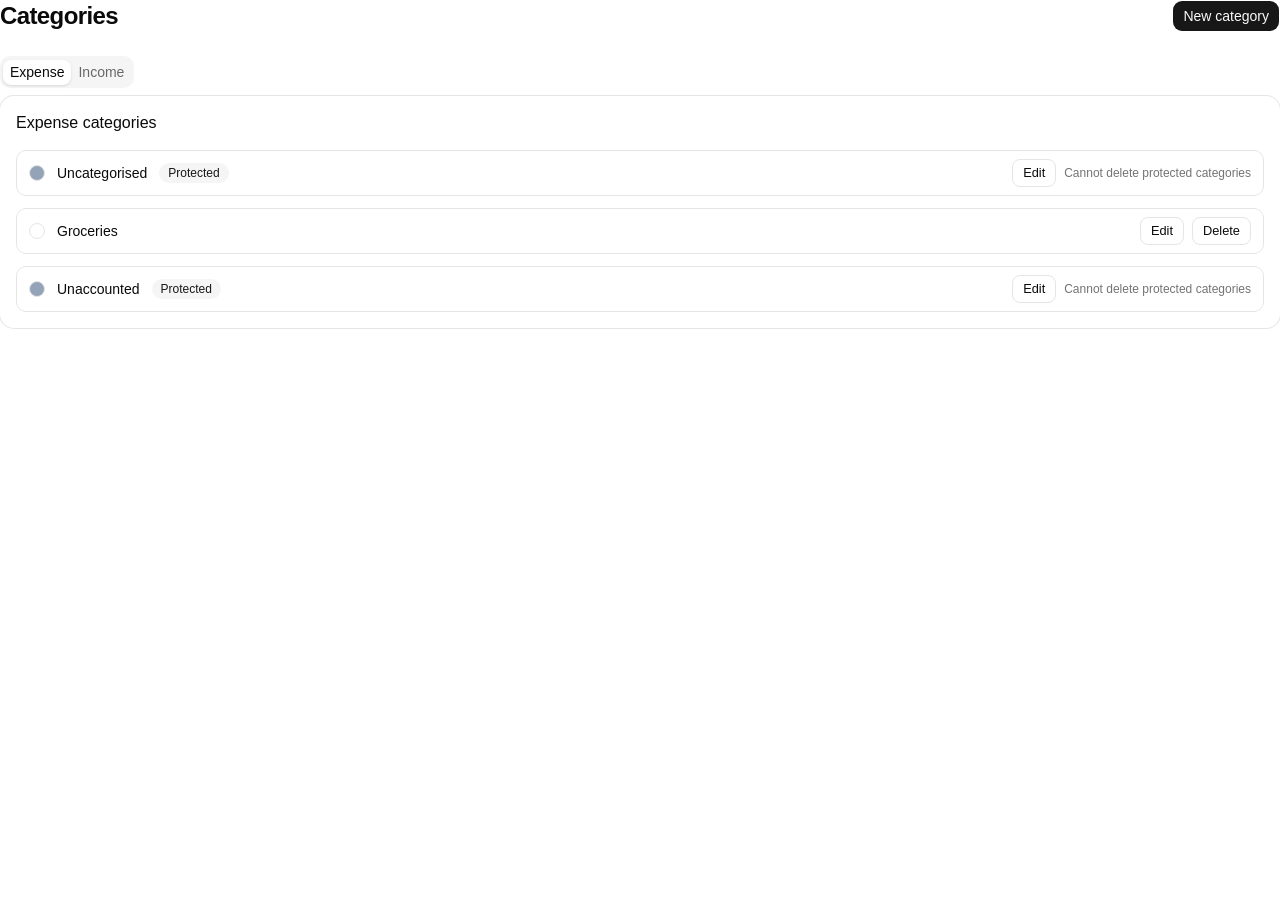
Test: CategoriesPage › creates, renames, and recolours a category
This screenshot has width=1280, height=900.
Click the button "New category": [1226, 16] box x1=1172 y1=0 x2=1279 y2=32
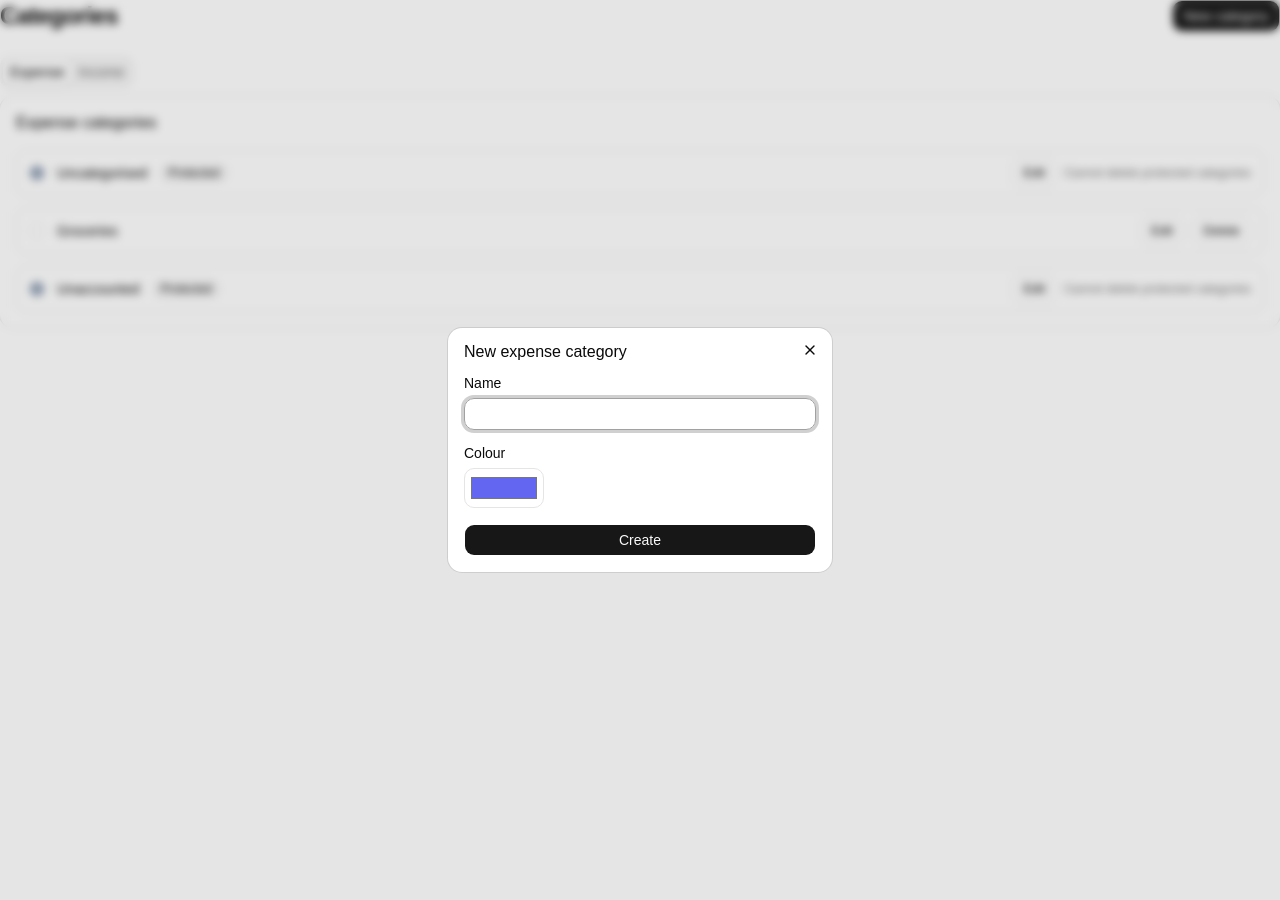
In the field labelled "Name": [640, 414] box x1=464 y1=398 x2=816 y2=430, type "Pets"
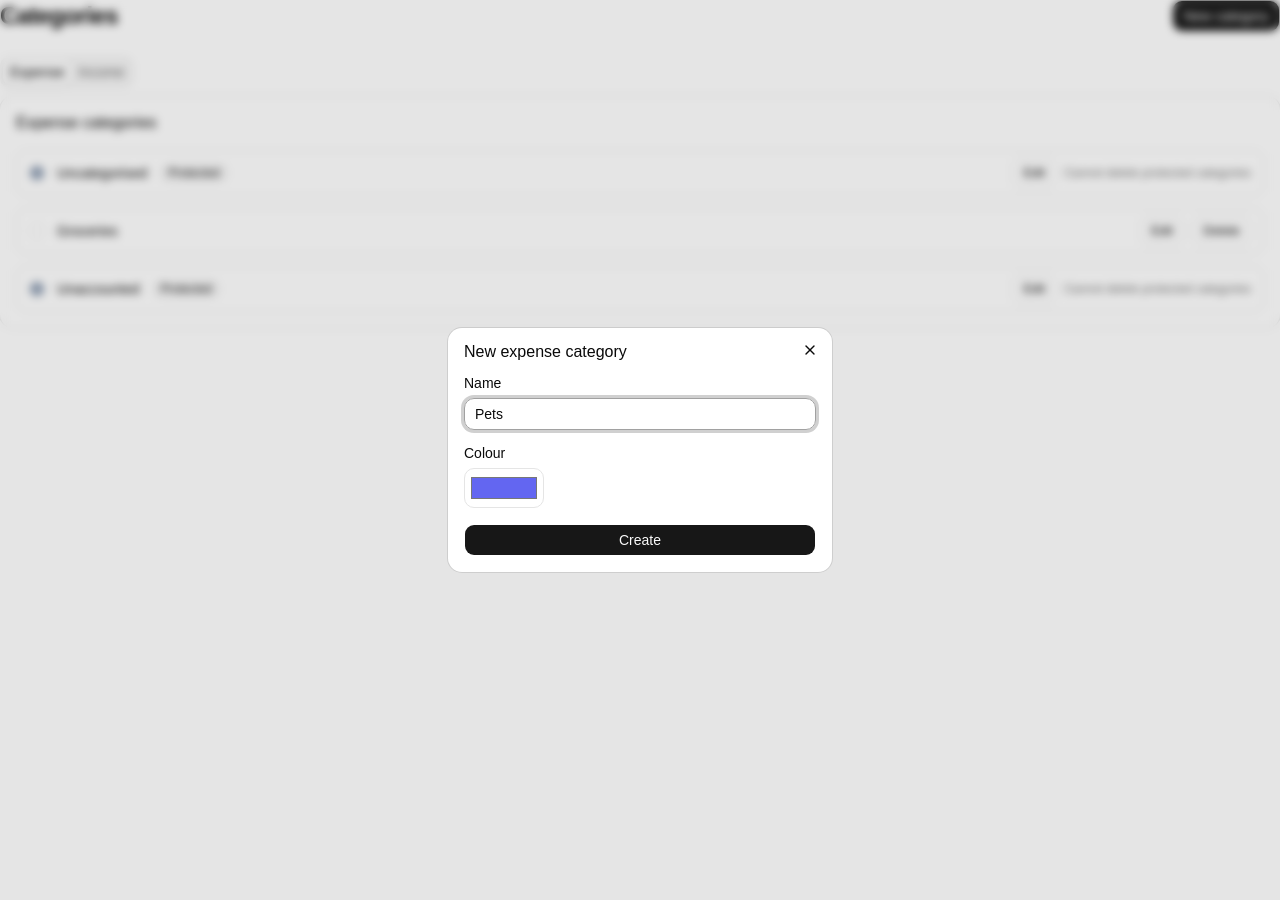
Click the button "Create": [640, 540] box x1=464 y1=524 x2=816 y2=556
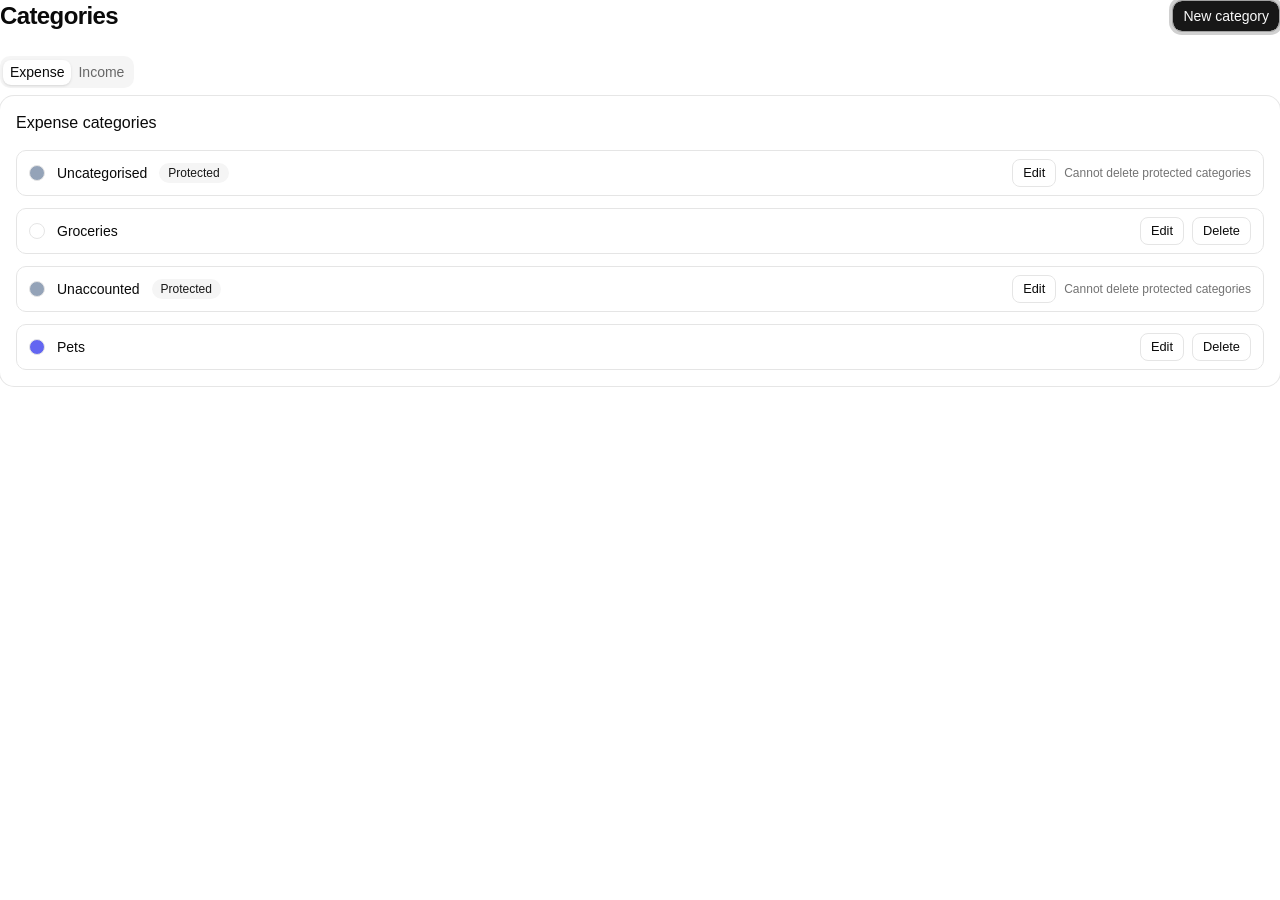
Expected: the text "Pets" is shown, x1=57 y1=337 x2=85 y2=357
Click the button "Edit" in the row of "Pets": [1162, 347] box x1=1140 y1=333 x2=1184 y2=361
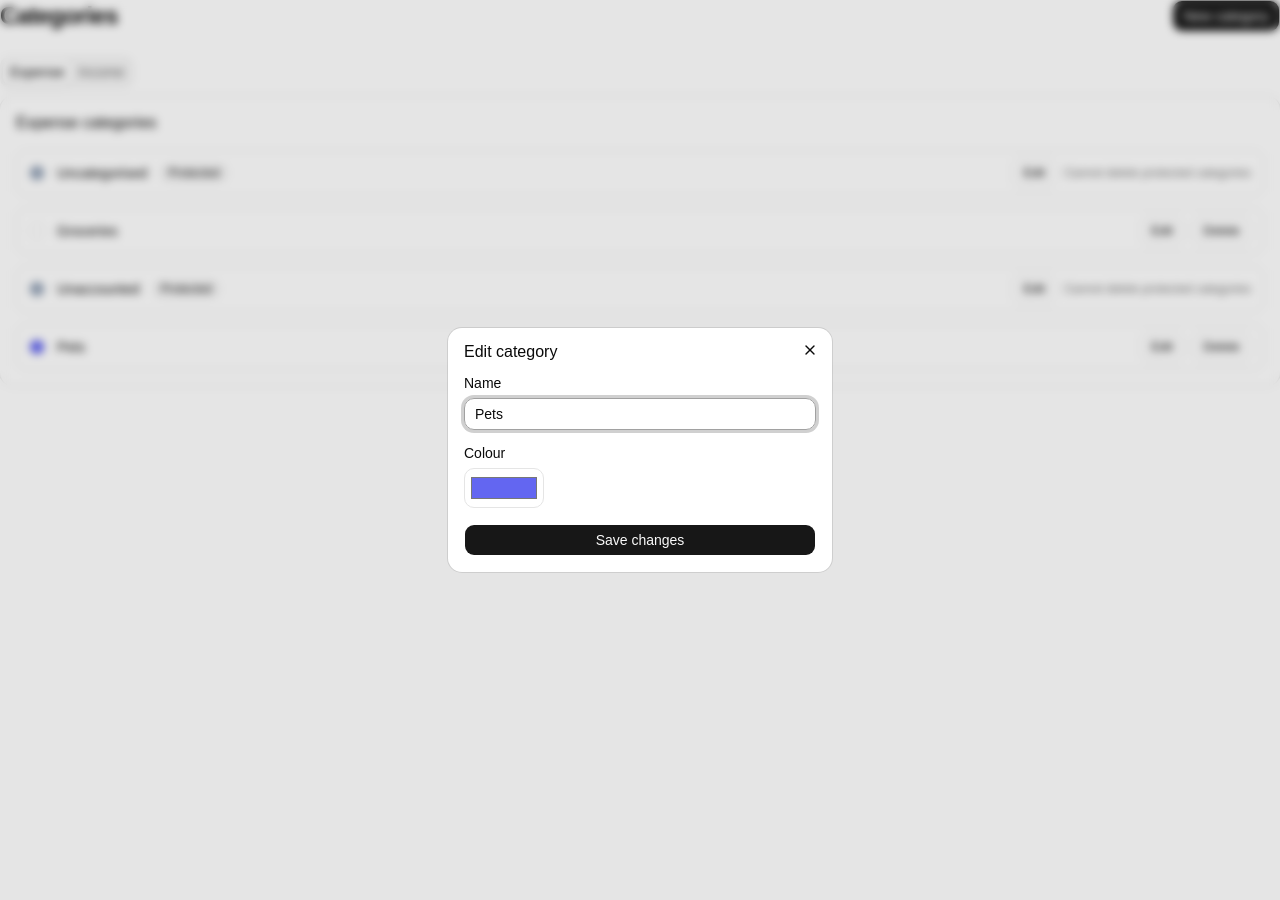
Replace the text in the field labelled "Name" with "Pet care": [640, 414] box x1=464 y1=398 x2=816 y2=430
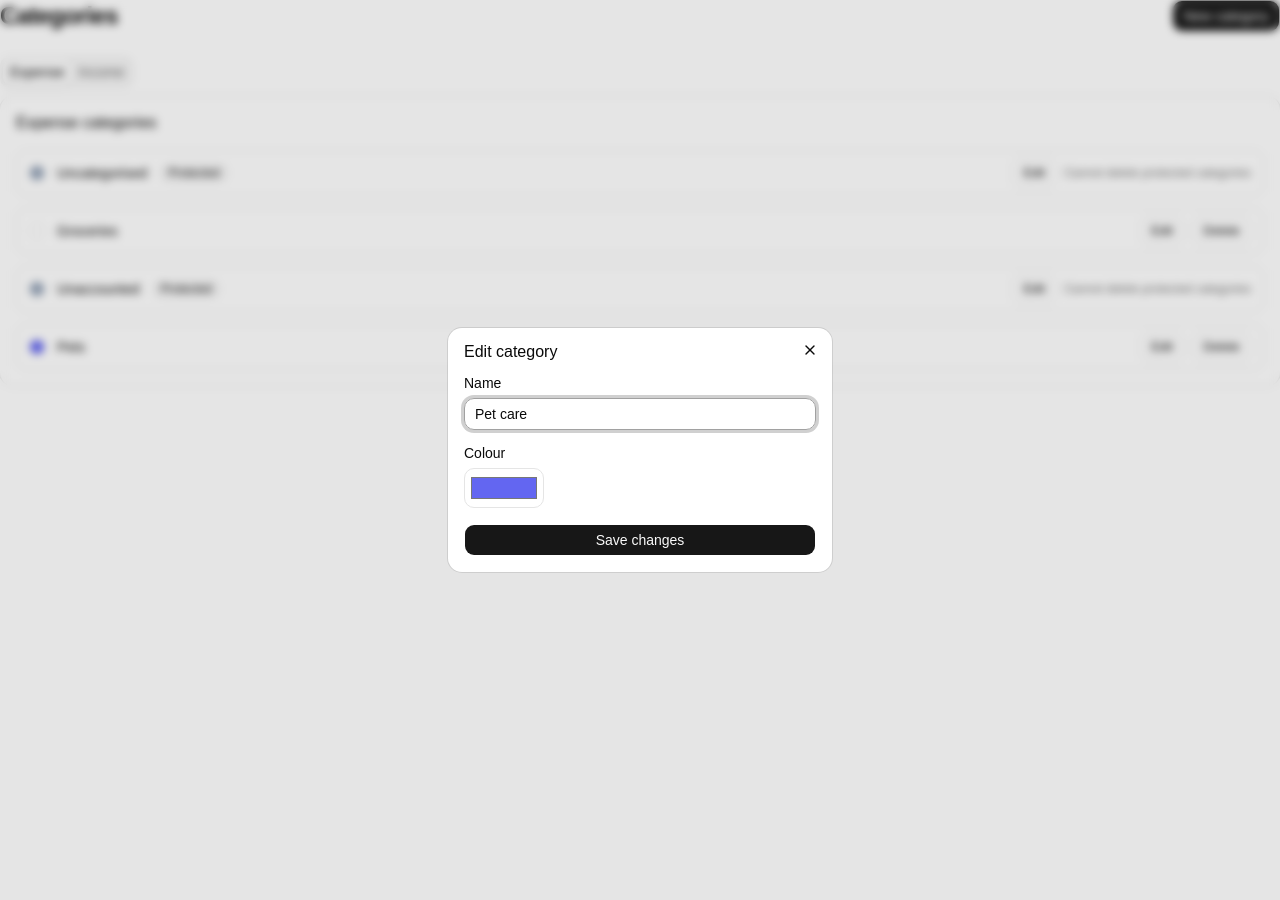
Click the button "Save changes": [640, 540] box x1=464 y1=524 x2=816 y2=556
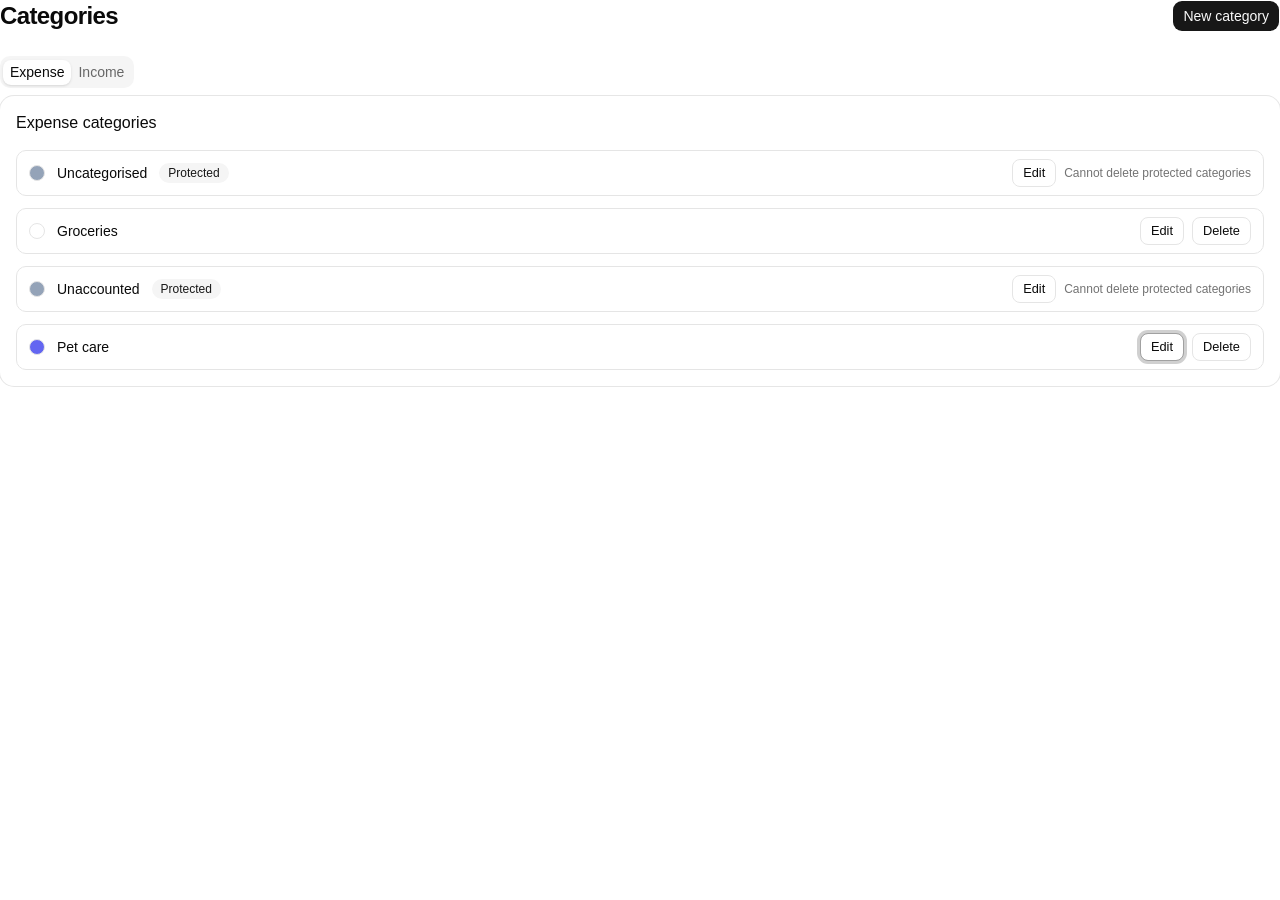
Expected: the text "Pet care" is shown, x1=57 y1=337 x2=109 y2=357
